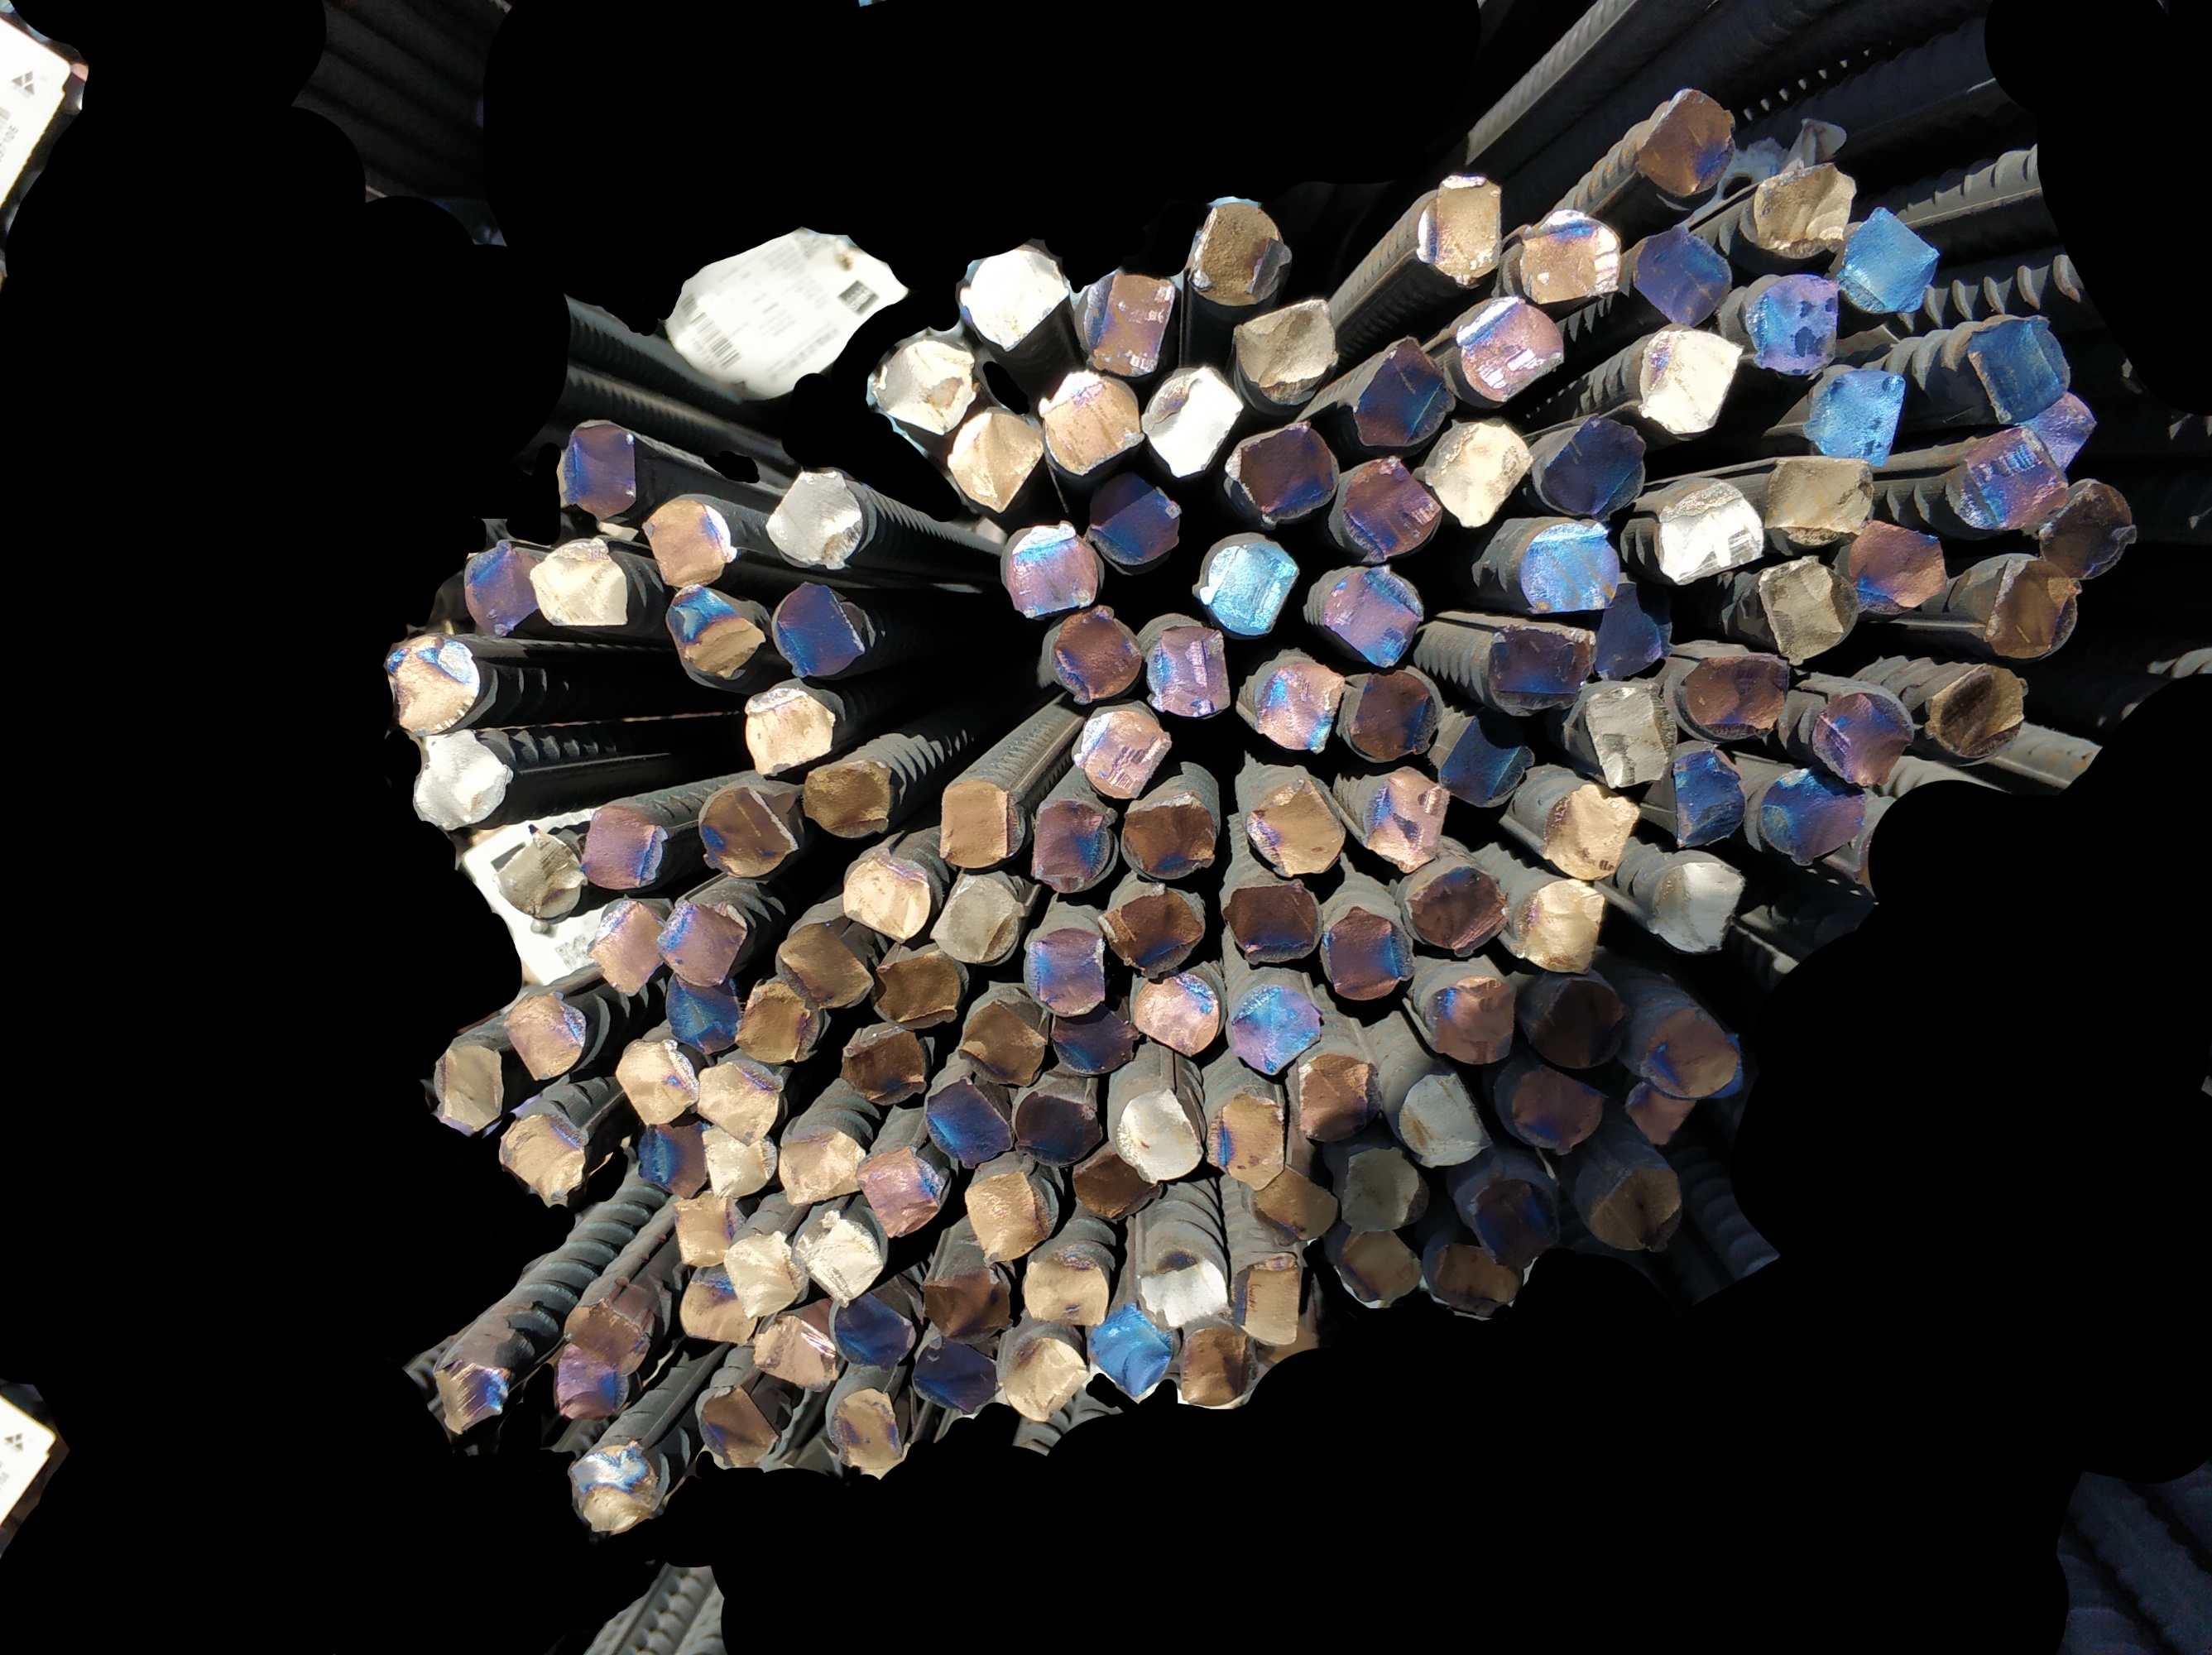rebar: (1027, 362, 1149, 478), (1625, 323, 1748, 438), (1943, 428, 2073, 535), (1646, 476, 1771, 588), (1223, 412, 1341, 528), (1222, 294, 1347, 403), (1454, 294, 1569, 409), (1970, 555, 2085, 669), (1425, 412, 1536, 530), (1136, 362, 1246, 482), (1348, 329, 1456, 450), (952, 245, 1069, 356), (1334, 445, 1444, 563), (1673, 641, 1793, 749), (1964, 315, 2075, 428), (1753, 553, 1863, 668), (1430, 697, 1538, 814), (1480, 619, 1602, 721), (1538, 409, 1647, 522), (1833, 203, 1941, 318), (1317, 560, 1427, 671), (761, 462, 867, 577), (1190, 535, 1303, 641), (1758, 449, 1873, 553), (1760, 760, 1870, 867), (1524, 963, 1630, 1074), (1807, 678, 1913, 789), (1074, 266, 1178, 379), (1512, 513, 1626, 615), (1840, 520, 1955, 622), (1630, 85, 1732, 200), (1189, 198, 1293, 309), (1632, 217, 1734, 330), (1242, 772, 1347, 881), (1096, 878, 1208, 980), (1804, 362, 1910, 468), (942, 409, 1046, 516), (1397, 1064, 1498, 1175), (2036, 469, 2137, 581), (1411, 172, 1507, 289), (999, 518, 1103, 624), (1925, 661, 2030, 767), (1211, 874, 1321, 975), (1315, 897, 1416, 1007), (1644, 852, 1748, 956), (878, 336, 983, 438), (408, 730, 516, 831), (659, 582, 768, 681), (695, 782, 805, 881), (1223, 975, 1326, 1080), (1540, 782, 1642, 885), (1520, 209, 1623, 311), (1044, 605, 1149, 706), (1581, 1158, 1687, 1257), (381, 640, 488, 737), (1077, 471, 1185, 568), (1404, 862, 1512, 960), (1140, 614, 1235, 723), (1359, 767, 1454, 876), (1741, 273, 1844, 374), (928, 862, 1027, 967), (1752, 158, 1856, 257), (1341, 666, 1447, 763), (836, 841, 931, 949), (1249, 654, 1345, 761), (523, 537, 632, 631), (775, 574, 867, 685), (1659, 741, 1752, 852), (1503, 1060, 1609, 1154), (1517, 874, 1609, 982), (1126, 963, 1225, 1062), (1467, 1175, 1566, 1274), (785, 1206, 886, 1304), (1077, 702, 1175, 803), (1421, 968, 1519, 1069), (850, 1140, 945, 1243), (492, 1113, 596, 1206), (737, 687, 841, 781), (1296, 1041, 1390, 1146), (770, 921, 876, 1014), (1110, 1087, 1208, 1186), (931, 770, 1027, 871), (1201, 1087, 1289, 1194), (1583, 680, 1670, 789), (914, 1074, 1011, 1172), (949, 993, 1046, 1090), (1593, 572, 1679, 683), (1083, 1302, 1175, 1405), (1030, 794, 1121, 899), (1640, 1007, 1739, 1100), (1131, 1241, 1235, 1330), (639, 497, 737, 591), (909, 1321, 1001, 1420), (959, 1168, 1050, 1269), (487, 831, 589, 920), (556, 415, 641, 522), (1334, 1144, 1428, 1240), (655, 899, 752, 991), (1022, 918, 1112, 1017), (792, 760, 904, 840), (1119, 793, 1220, 880), (690, 1059, 784, 1151), (996, 1333, 1093, 1422), (580, 901, 669, 998), (1171, 1314, 1255, 1417), (568, 1445, 666, 1532), (773, 1123, 871, 1210), (1010, 1087, 1107, 1173), (692, 1379, 782, 1471), (459, 542, 549, 635), (1427, 1236, 1524, 1321), (745, 1311, 844, 1394), (867, 949, 966, 1033), (1229, 1245, 1308, 1347), (612, 1036, 700, 1128), (1017, 1245, 1112, 1328), (575, 805, 669, 888), (1046, 996, 1140, 1080), (1067, 1147, 1168, 1224), (502, 993, 589, 1081), (692, 1114, 780, 1201), (719, 1231, 810, 1316), (427, 1043, 513, 1133), (917, 1267, 1017, 1344), (1333, 1226, 1421, 1311), (732, 982, 818, 1067), (831, 1286, 921, 1368), (660, 970, 749, 1052), (561, 1300, 652, 1379), (839, 1029, 931, 1106), (824, 1382, 904, 1469), (1255, 1165, 1341, 1243), (2017, 382, 2096, 469), (662, 1191, 744, 1273), (551, 1340, 631, 1422), (427, 1361, 513, 1436), (631, 1118, 709, 1198), (1619, 1071, 1699, 1146), (678, 1274, 759, 1347)
